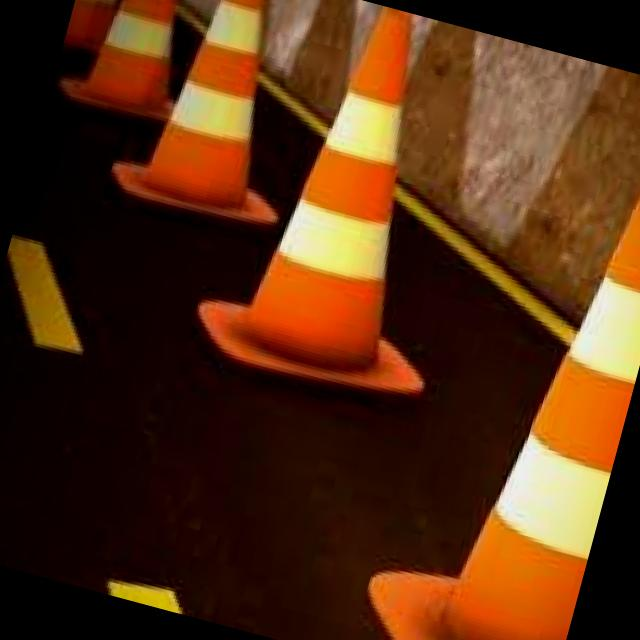cone: (349, 104, 640, 640), (185, 0, 517, 411), (113, 0, 336, 231), (55, 0, 221, 134)
